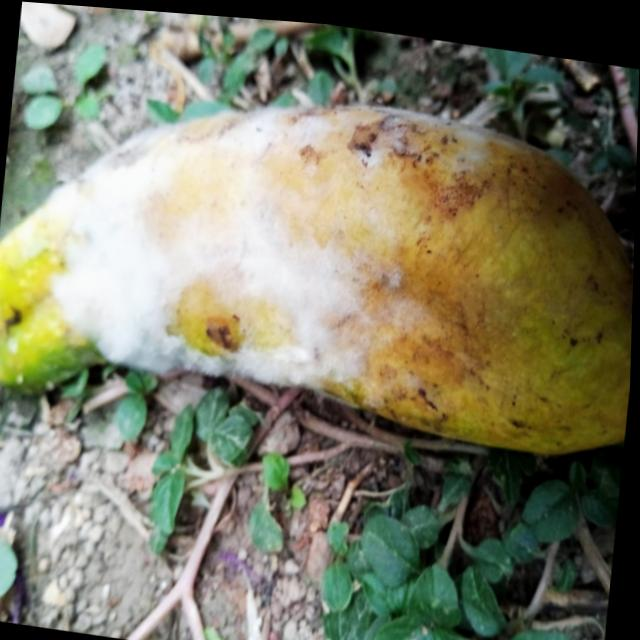Pythium-Fruit-Rot: (35, 61, 475, 408)
